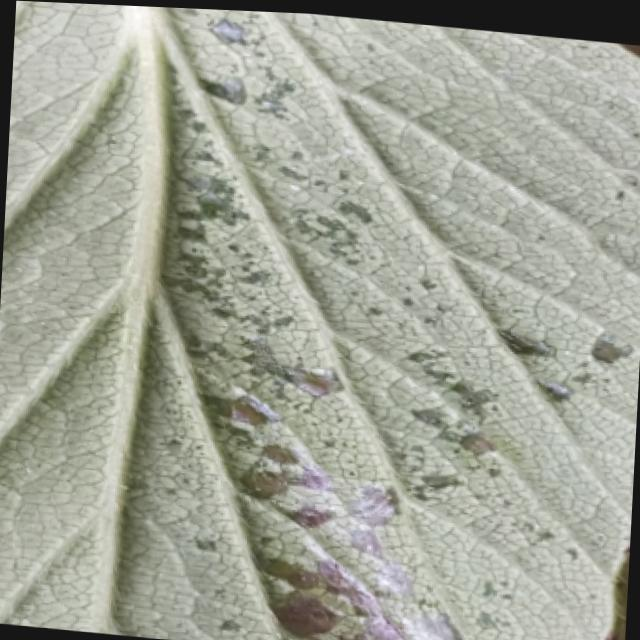Angular Leafspot: (140, 5, 640, 640)
